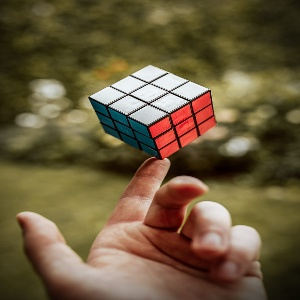cube: (88, 64, 218, 161)
